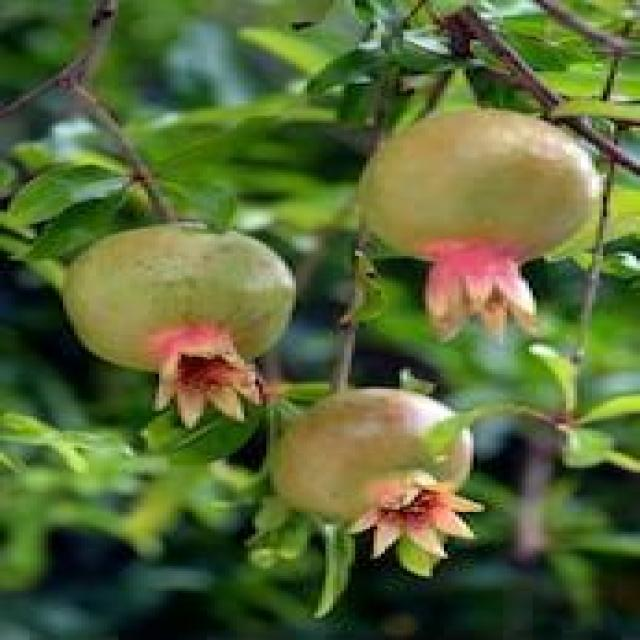Pomegranate: (353, 106, 606, 341), (60, 216, 299, 430), (268, 384, 490, 564)
